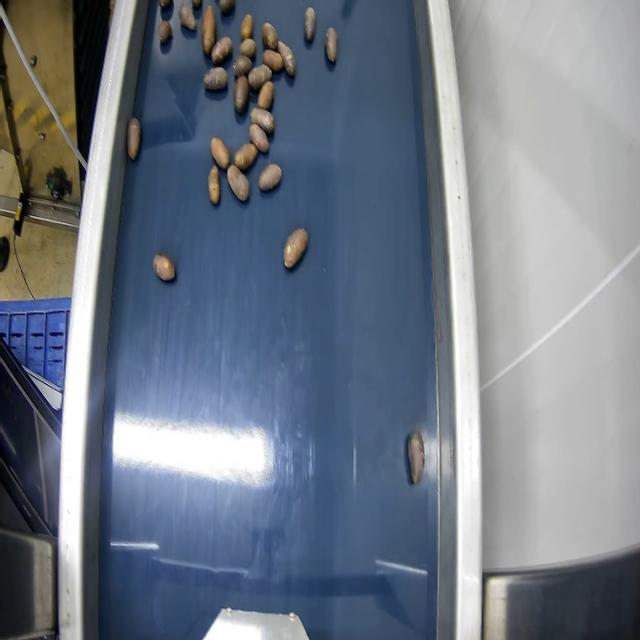Baby Potato: (283, 228, 307, 268), (408, 430, 424, 483), (227, 165, 248, 200), (201, 5, 214, 55), (277, 41, 295, 76), (258, 163, 280, 191), (210, 137, 229, 169), (126, 117, 140, 160), (234, 143, 256, 170), (248, 64, 270, 90), (251, 108, 273, 133), (153, 254, 174, 280), (233, 76, 248, 112), (211, 36, 231, 63), (249, 124, 268, 151), (204, 67, 226, 90), (179, 0, 195, 30), (257, 80, 273, 109), (262, 49, 282, 71), (208, 166, 219, 204), (325, 27, 336, 63), (262, 23, 277, 49), (304, 7, 315, 42), (233, 55, 251, 76), (240, 14, 252, 39), (158, 20, 171, 43), (239, 40, 254, 58), (219, 0, 234, 14), (158, 0, 172, 8), (192, 0, 201, 7)
